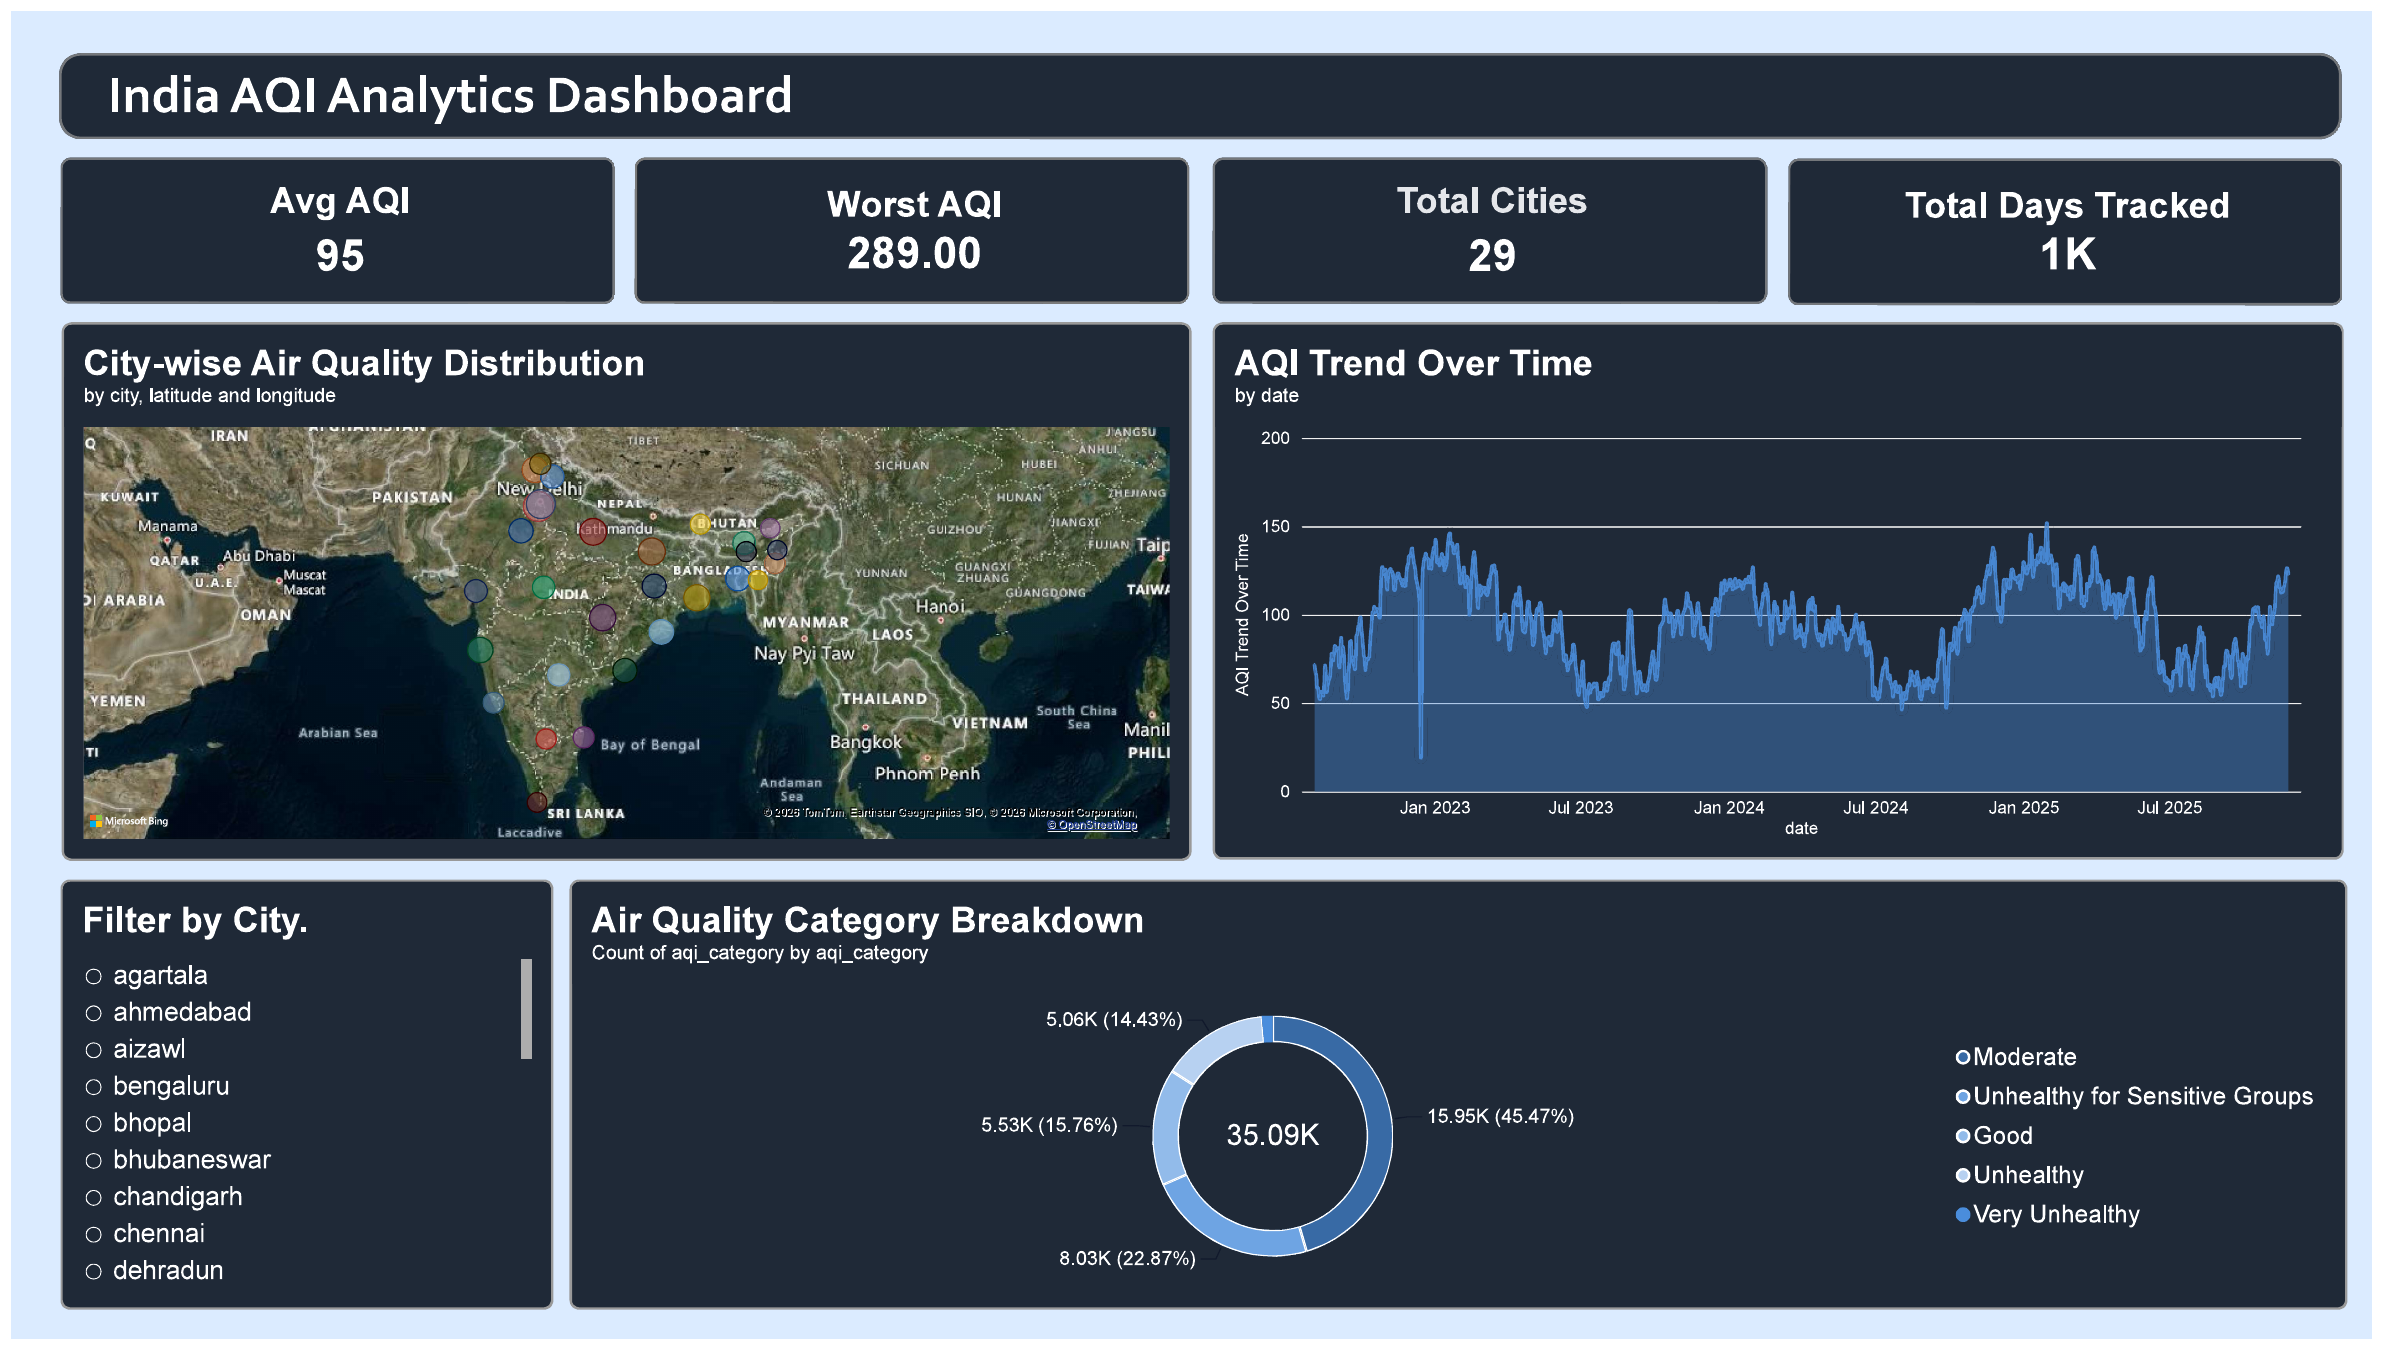

The dashboard page shown, as its layout file describes it:
{"tool":"powerbi","page":{"name":"Page 1","canvas":[1920,1080],"ordinal":0},"visuals":[{"type":"cardVisual","fields":{"Data":["AQI_Daily.Total Days Tracked"]},"box":[1444.9,119.6,451.7,119.2],"z":0,"group":"g1"},{"type":"shape","box":[38.8,33.8,1856.2,70],"z":1000},{"type":"textbox","box":[39,41,637,63],"z":2000},{"type":"map","fields":{"Series":["AQI_Daily.city"],"Size":["Sum(AQI_Daily.avg_us_aqi)"],"X":["AQI_Daily.longitude"],"Y":["AQI_Daily.latitude"]},"box":[41,253,919,438],"z":3000},{"type":"cardVisual","fields":{"Data":["AQI_Daily.Total Cities"]},"box":[977.1,118.8,451.7,119.2],"z":4000,"group":"g1"},{"type":"lineChart","fields":{"Category":["AQI_Daily.date"],"Y":["Avg(AQI_Daily.avg_us_aqi)"]},"box":[977,253,920,437],"z":5000},{"type":"listSlicer","fields":{"Values":["AQI_Daily.city"]},"box":[40,705.7,401.4,350],"z":6000},{"type":"donutChart","title":"Air Quality Category Breakdown","fields":{"Category":["AQI_Daily.aqi_category"],"Y":["CountNonNull(AQI_Daily.aqi_category)"]},"box":[454,706,1446,350],"z":7000},{"type":"cardVisual","fields":{"Data":["AQI_Daily.Avg AQI"]},"box":[40,119.3,451.7,119.2],"z":8000,"group":"g1"},{"type":"cardVisual","fields":{"Data":["AQI_Daily.Worst AQI"]},"box":[506.5,119.3,451.7,119.2],"z":9000,"group":"g1"},{"type":"group","id":"g1","title":"Group 1","box":[40,118.8,1856.7,120],"z":9001}]}

Visuals, with their boxes in screenshot pixels (x1, y1, x2, y2), scaled from the page's 1920x1080 canvas onto the 2384x1351 screenshot:
cardVisual - AQI_Daily.Total Days Tracked: crop(1794, 150, 2355, 299)
shape: crop(48, 42, 2353, 130)
textbox: crop(48, 51, 839, 130)
map - AQI_Daily.city x Sum(AQI_Daily.avg_us_aqi): crop(51, 316, 1192, 864)
cardVisual - AQI_Daily.Total Cities: crop(1213, 149, 1774, 298)
lineChart - AQI_Daily.date x Avg(AQI_Daily.avg_us_aqi): crop(1213, 316, 2355, 863)
listSlicer - AQI_Daily.city: crop(50, 883, 548, 1321)
"Air Quality Category Breakdown" donutChart: crop(564, 883, 2359, 1321)
cardVisual - AQI_Daily.Avg AQI: crop(50, 149, 611, 298)
cardVisual - AQI_Daily.Worst AQI: crop(629, 149, 1190, 298)
"Group 1" group: crop(50, 149, 2355, 299)
